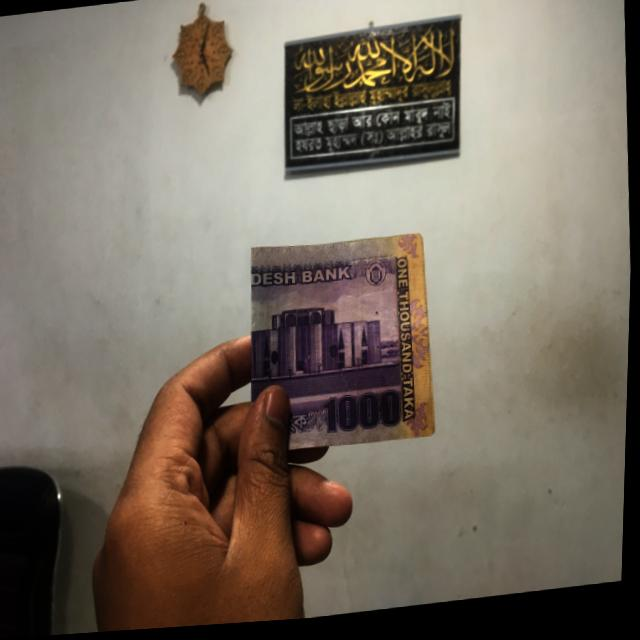Taka: (247, 232, 442, 455)
